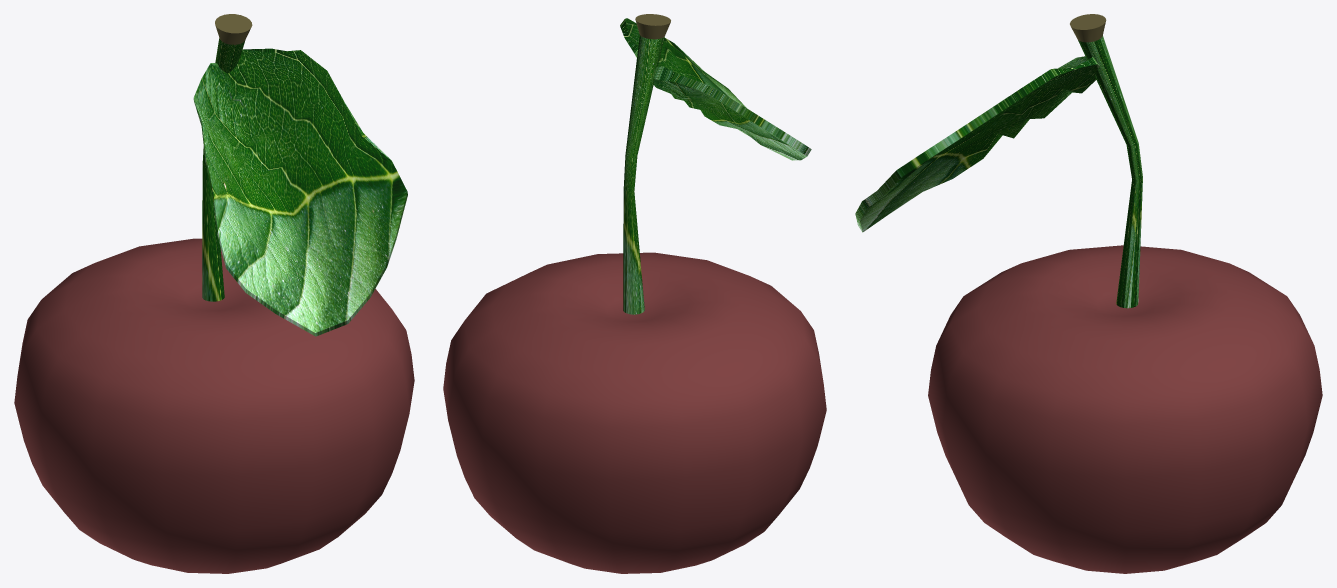
File: my_fruit.fbx
3 renders of one model, left to right at view 1: azimuth 30°, elevation 25°; view 2: azimuth 150°, elevation 25°; view 3: azimuth 270°, elevation 25°, orthographic. The views are drawn at different scales.
Parts seen in each view (by area): view 1: pSphere1, pDisc1, pCylinder1; view 2: pSphere1, pDisc1, pCylinder1; view 3: pSphere1, pDisc1, pCylinder1.
Part boxes in pixels (x1=…): pSphere1: x1=14, y1=238, x2=414, y2=573; pDisc1: x1=193, y1=48, x2=407, y2=336; pCylinder1: x1=202, y1=14, x2=252, y2=301; pSphere1: x1=443, y1=252, x2=826, y2=573; pDisc1: x1=620, y1=18, x2=811, y2=160; pCylinder1: x1=623, y1=14, x2=670, y2=314; pSphere1: x1=928, y1=245, x2=1322, y2=573; pDisc1: x1=855, y1=56, x2=1099, y2=232; pCylinder1: x1=1070, y1=14, x2=1142, y2=308.
Bounding box in the file's own units: 2.61 × 3.88 × 3.09.
4 materials, 2 textured.
